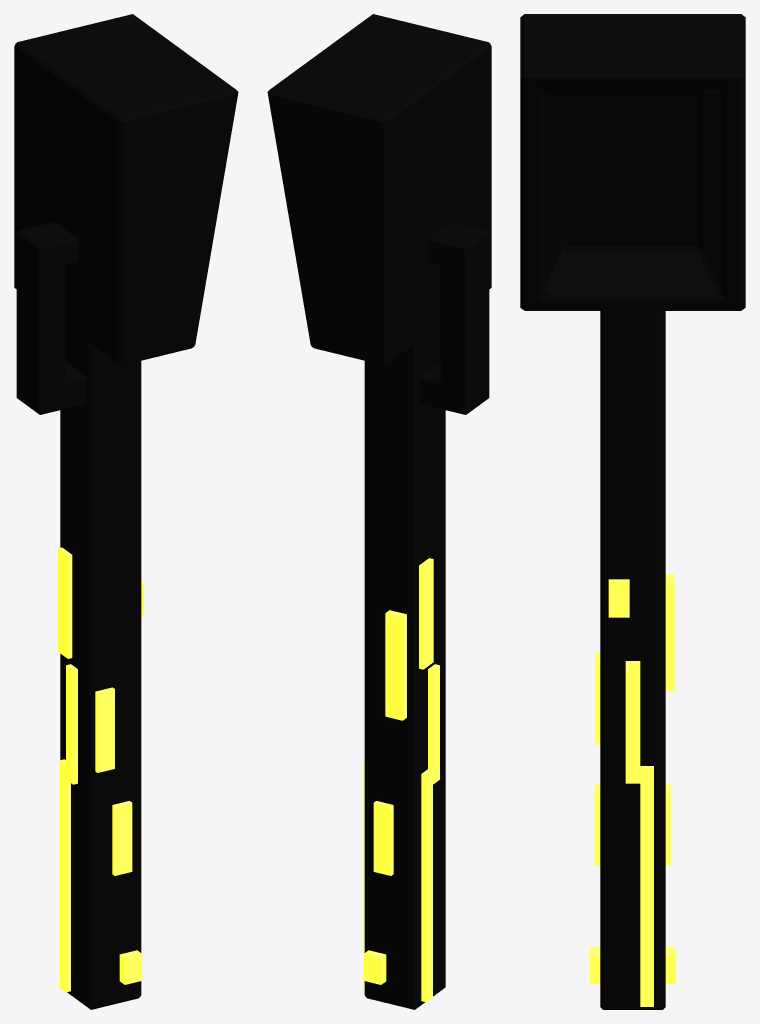
File: Mirror2.fbx
3 views of the same model, side by side, from view 1: azimuth 30°, elevation 25°; view 2: azimuth 150°, elevation 25°; view 3: azimuth 270°, elevation 25° (orthographic). The views are drawn at different scales.
Parts seen in each view (by area): view 1: Cube, Cube.001, Cube.002, Cube.003; view 2: Cube, Cube.001, Cube.003, Cube.002; view 3: Cube, Cube.001, Cube.003.
Boxes of the visible parts, x1,y1,x2,y2 form: Cube: [14, 14, 238, 365]; Cube.001: [60, 325, 141, 1009]; Cube.002: [16, 222, 86, 414]; Cube.003: [58, 547, 143, 992]; Cube: [267, 14, 491, 365]; Cube.001: [364, 325, 445, 1009]; Cube.003: [363, 558, 439, 1002]; Cube.002: [419, 222, 489, 414]; Cube: [520, 14, 745, 310]; Cube.001: [600, 311, 665, 1009]; Cube.003: [589, 574, 676, 1006].
Bounding box in the file's own units: 377 × 2083 × 439.
